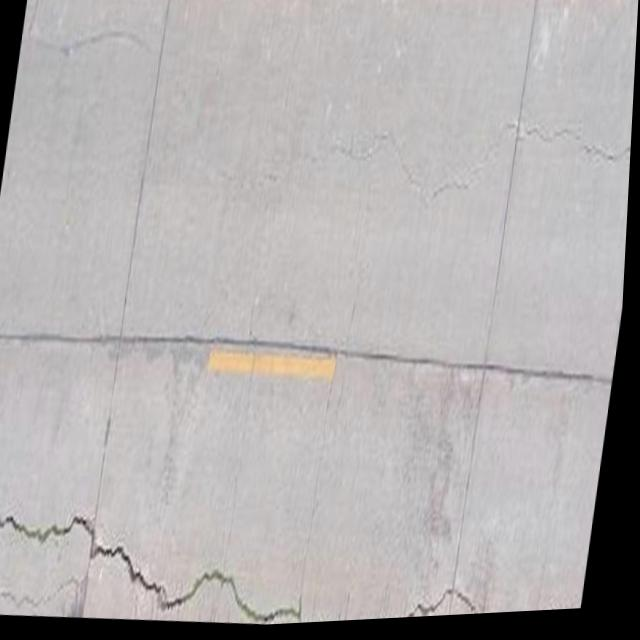Crack: (0, 461, 601, 640)
